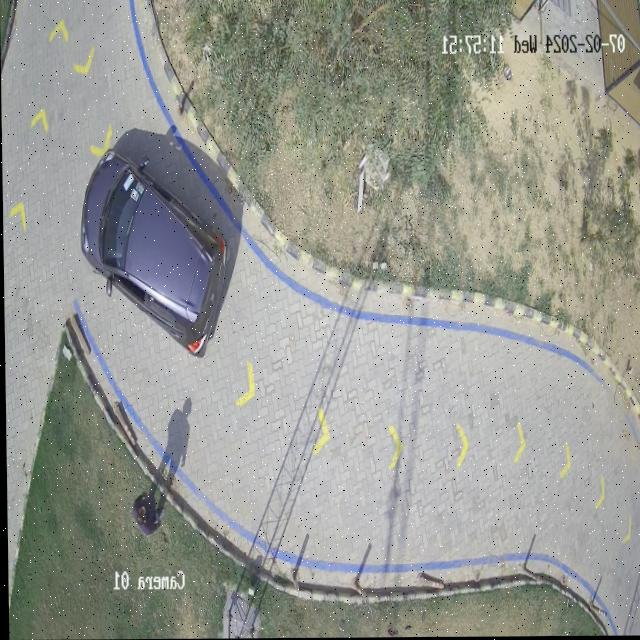car: (80, 150, 227, 357)
